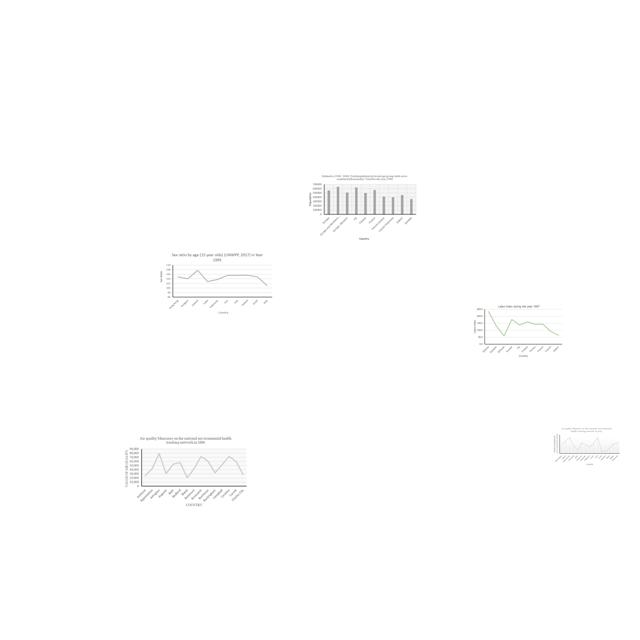Graph: (122, 434, 249, 508), (305, 173, 418, 241), (159, 250, 275, 315), (473, 304, 564, 358), (552, 426, 621, 467)
